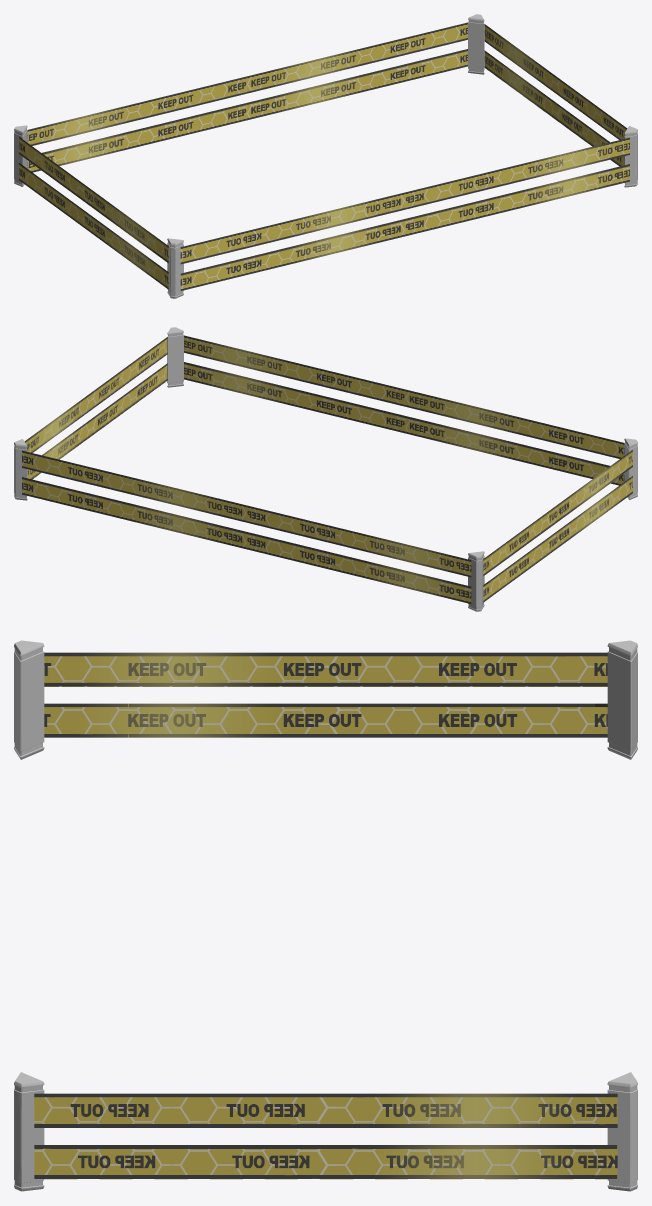
3 renders of one model, top to bottom at view 1: azimuth 30°, elevation 25°; view 2: azimuth 150°, elevation 25°; view 3: azimuth 270°, elevation 25°, orthographic. The views are drawn at different scales.
Parts seen in each view (by area): view 1: wall_v02, corner; view 2: wall_v02, corner; view 3: wall_v02, corner.
Part boxes in pixels (x1,y1,x2,y2): wall_v02: [19, 22, 629, 290]; corner: [14, 14, 637, 298]; wall_v02: [22, 335, 632, 603]; corner: [14, 327, 637, 611]; wall_v02: [34, 652, 617, 1179]; corner: [14, 640, 637, 1191].
Bounding box in the file's own units: 2215 × 250 × 1315.
